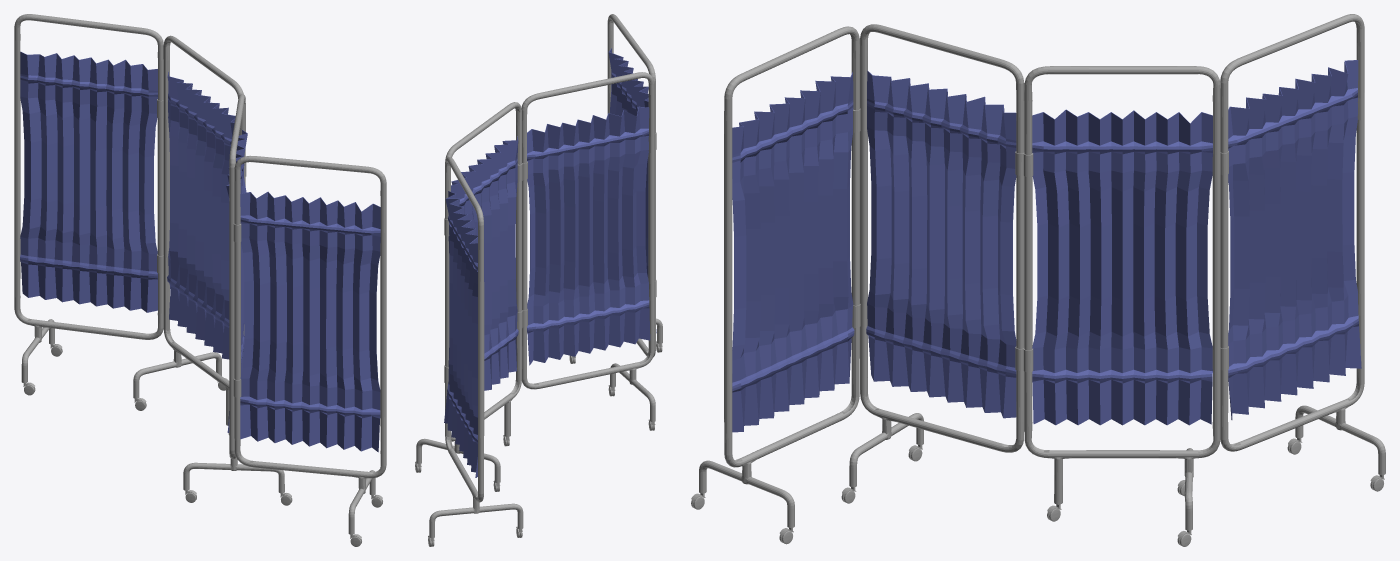
Rendered from HospitalDivider.fbx.
3 views of the same model, side by side, from view 1: azimuth 30°, elevation 25°; view 2: azimuth 150°, elevation 25°; view 3: azimuth 270°, elevation 25° (orthographic). The views are drawn at different scales.
Parts seen in each view (by area): view 1: HospitalDivider; view 2: HospitalDivider; view 3: HospitalDivider.
Part boxes in pixels (x1,y1,x2,y2): HospitalDivider: (14, 14, 386, 546); HospitalDivider: (415, 14, 662, 546); HospitalDivider: (691, 14, 1385, 546).
Size of the model in its own units: 129 by 276 by 384.
